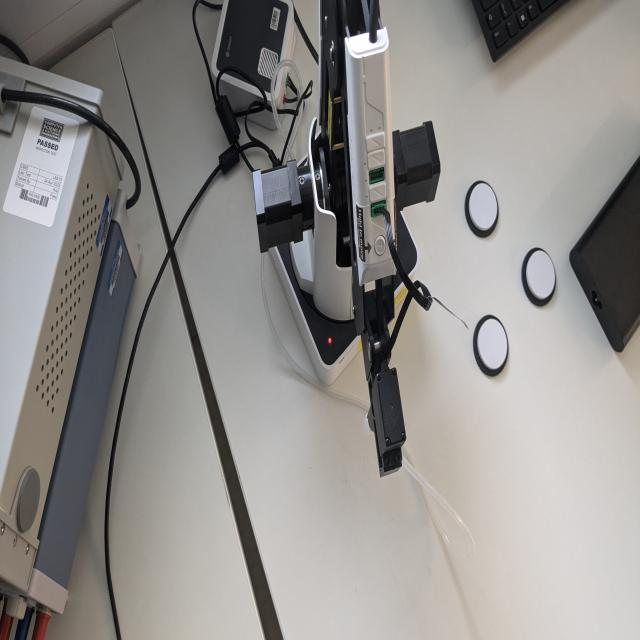Robot-end-effector-HF8z: (360, 366, 413, 479)
